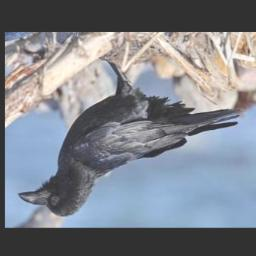Crow: (17, 54, 244, 218)
